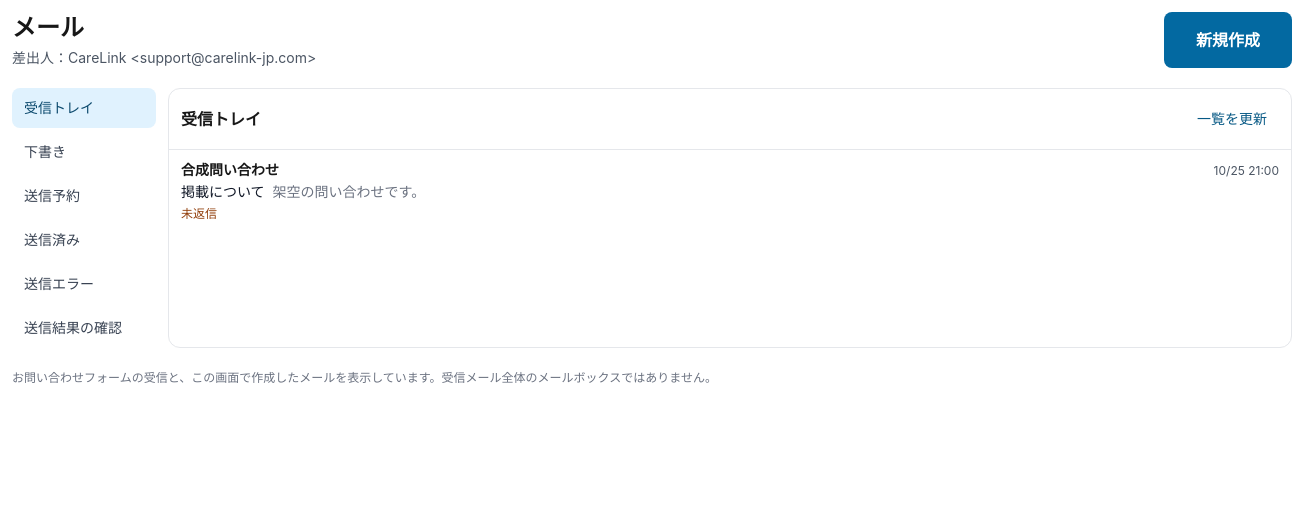
Test: history failures are explicit and retryable; a failure cannot become an empty successful thread
Click the button "合成問い合わせ": (230, 170) [169,150,1291,232]
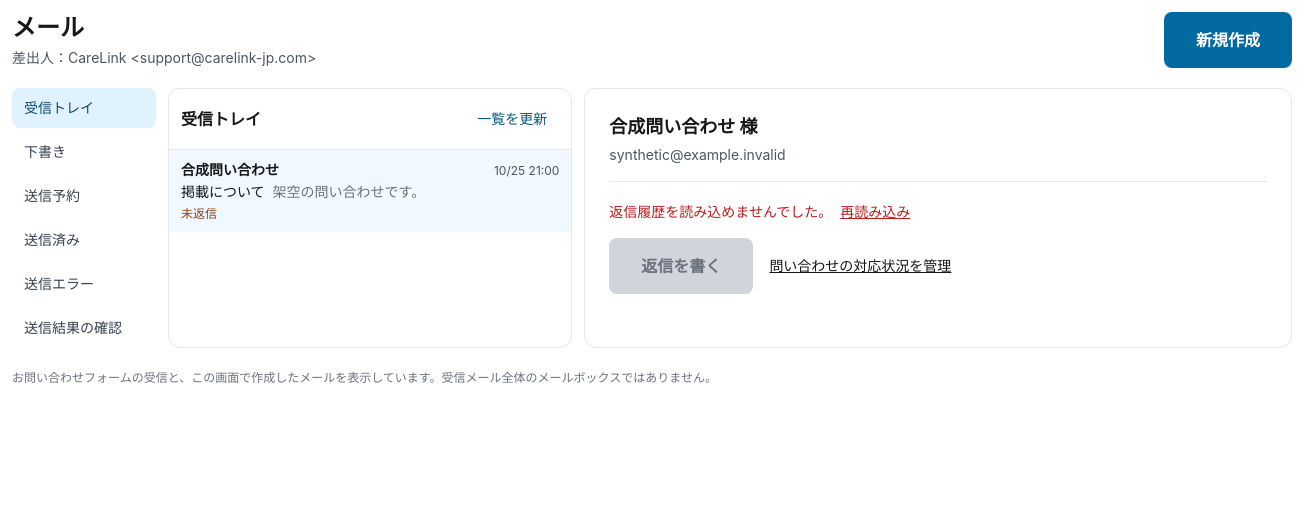
Check: the message shows "返信履歴を読み込めませんでした", box [609,203,832,220]
Check: the button "返信を書く" is disabled, box [609,238,753,294]
Click the button "再読み込み": (875, 212) [840,202,910,222]
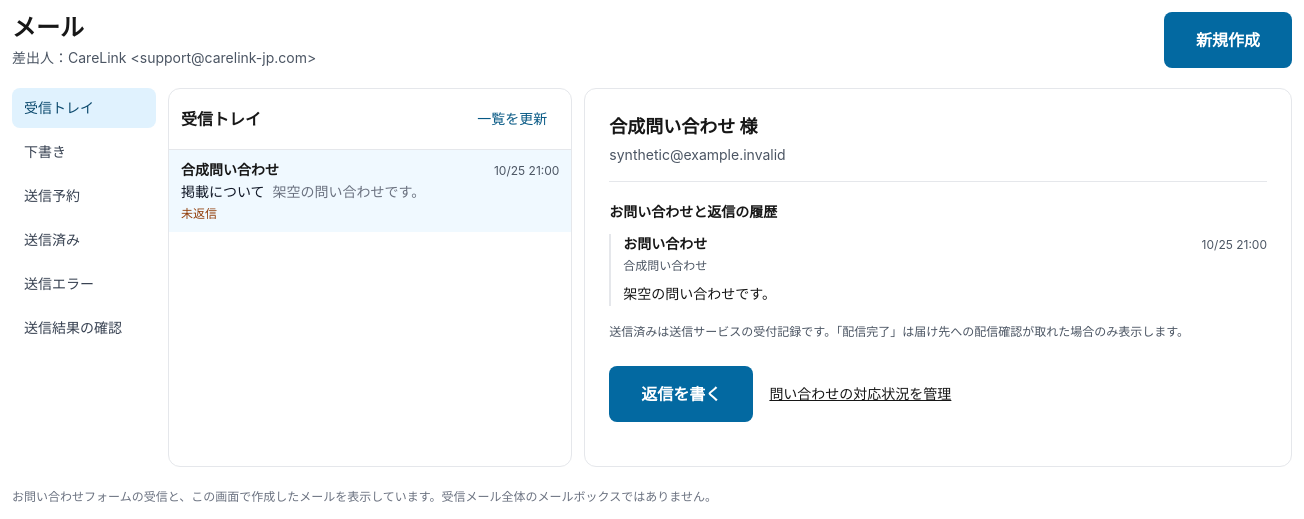
Check: the element "お問い合わせと返信の履歴" is shown, box [609,202,1267,342]
